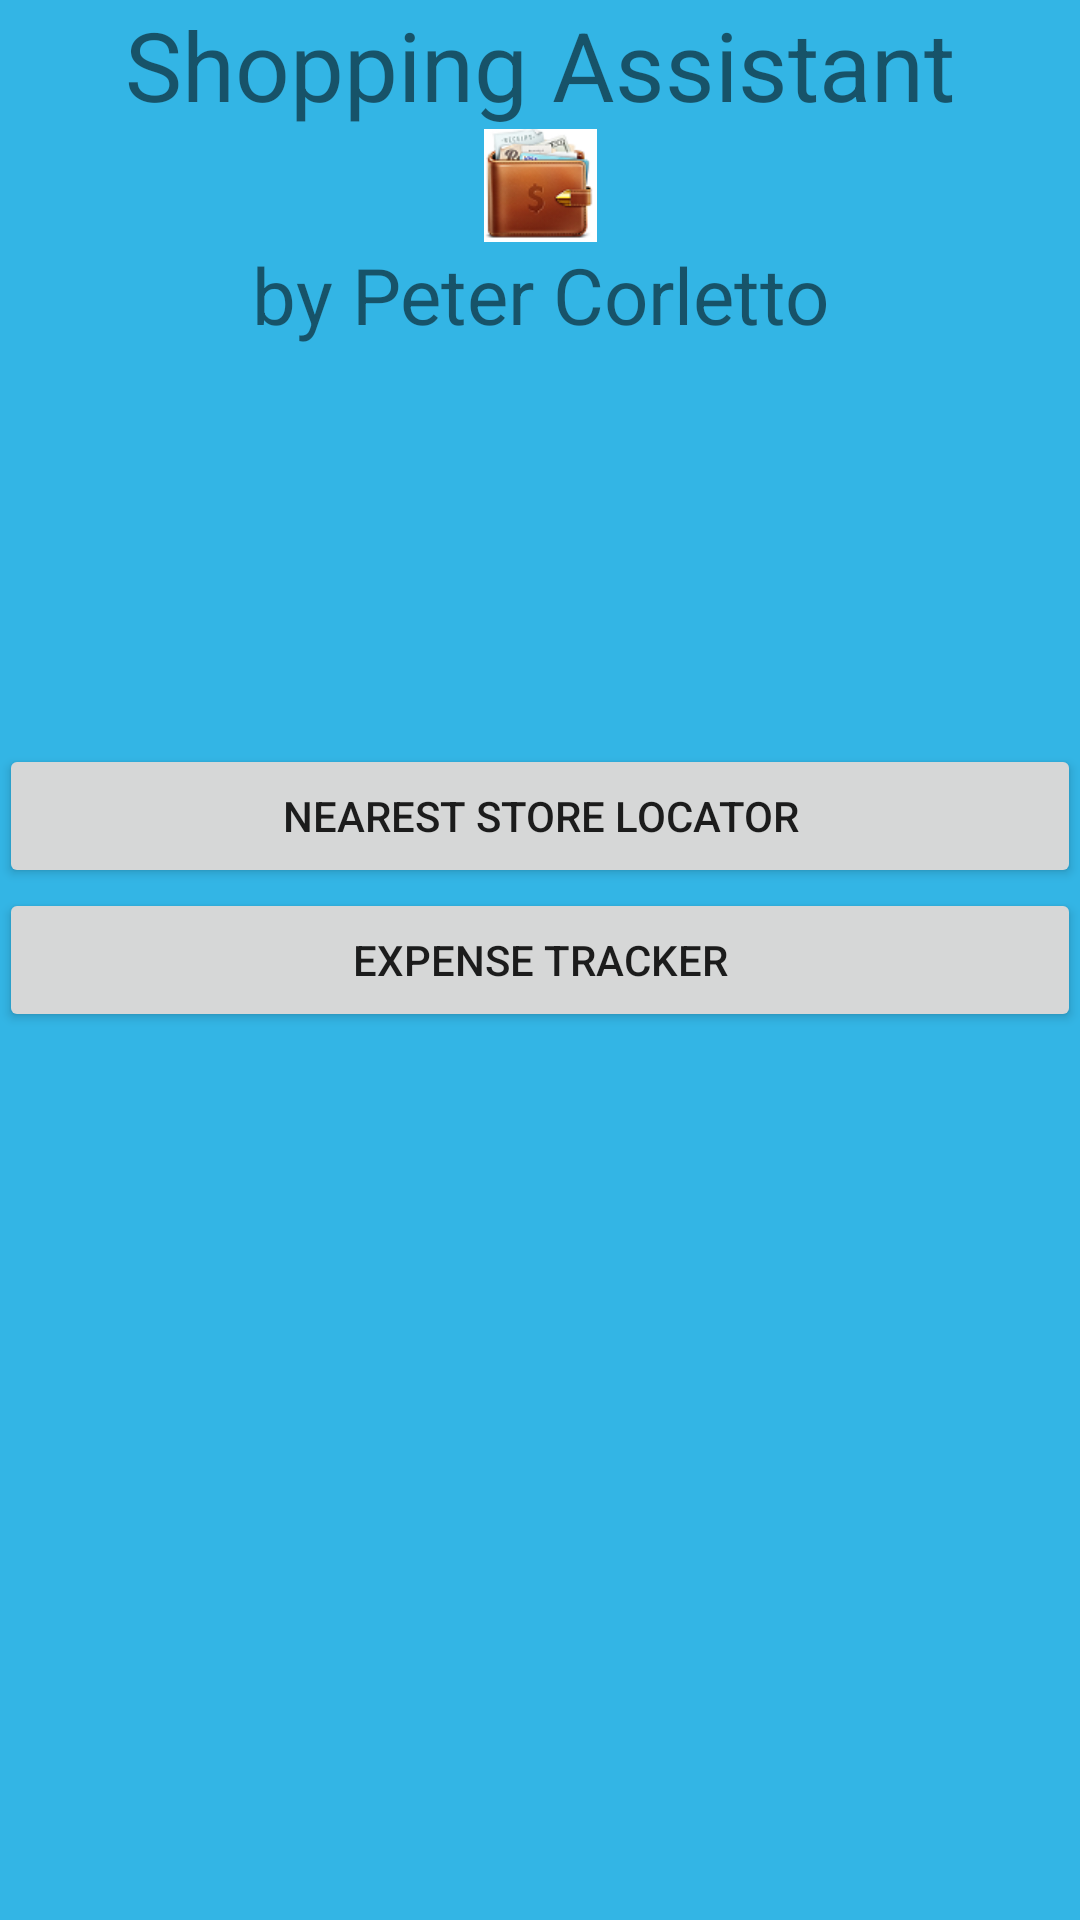

Icon bounding boxes for this 1080×1920 phone screenshot, format (x1, y1, x2, y2):
walleticon: (484, 129, 597, 242)
